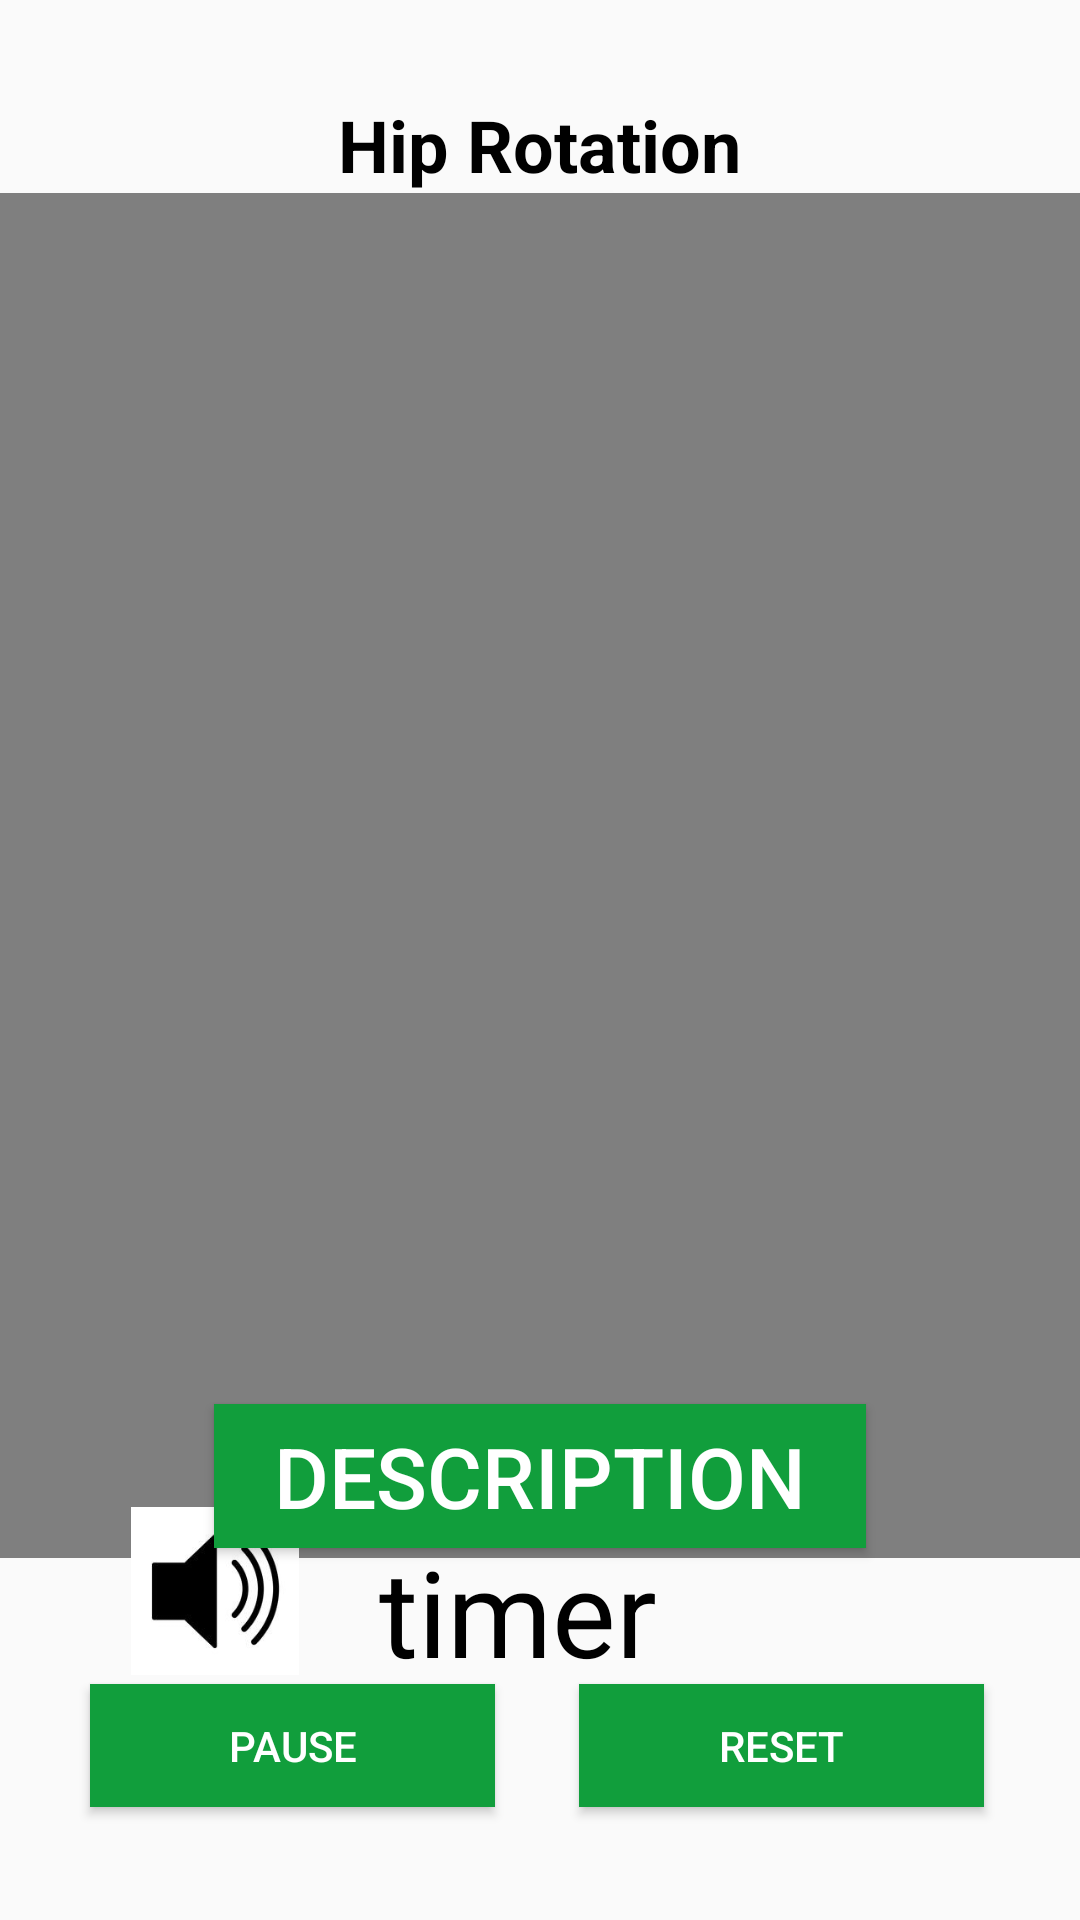

Named icons in this screenshot (1080*1920) and their centers, (x=x, y=y):
speakericon: (x=215, y=1577)
